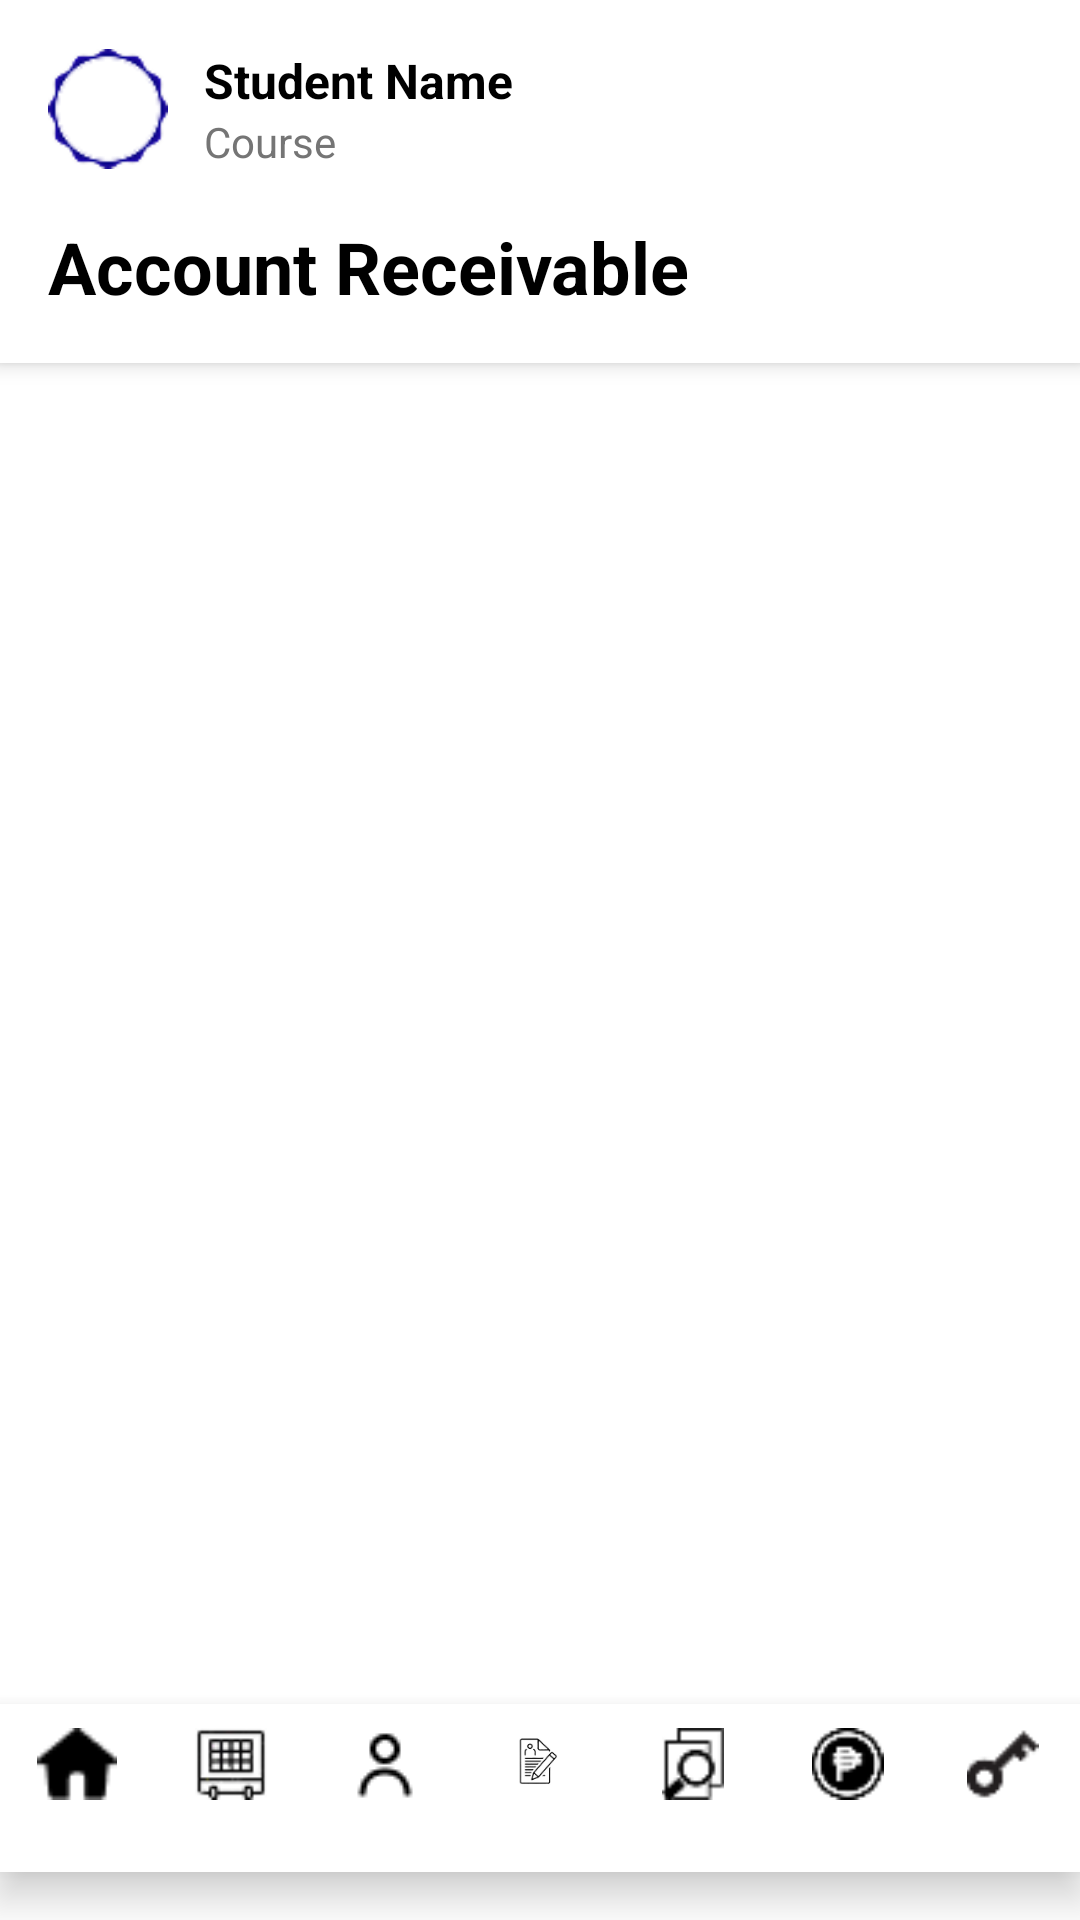

Icon bounding boxes for this 1080px x 1920px phone screenshot, format (x1, y1, x2, y2):
Account Receivable: (812, 1728, 884, 1800)
Change Password: (967, 1730, 1039, 1798)
Home: (37, 1728, 117, 1800)
Personal Data: (357, 1733, 413, 1798)
Schedule: (197, 1730, 265, 1800)
Student Evaluation: (519, 1738, 557, 1784)
Teacher Evaluation: (662, 1728, 724, 1800)
